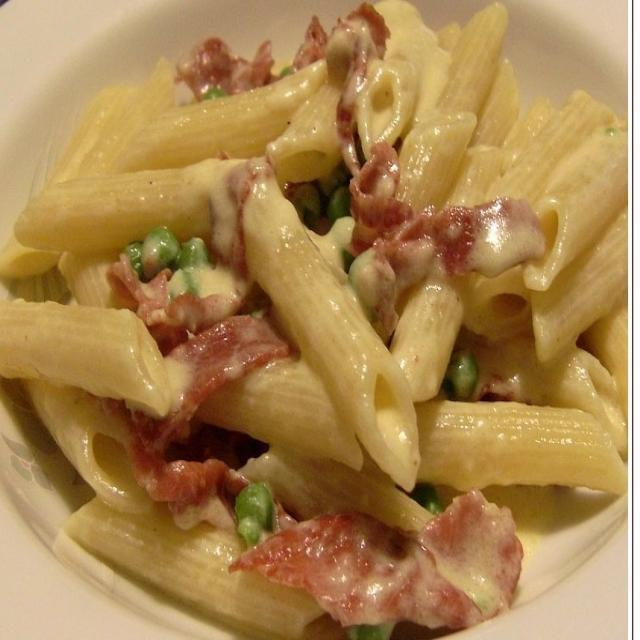Oil pasta: (20, 33, 632, 640)
